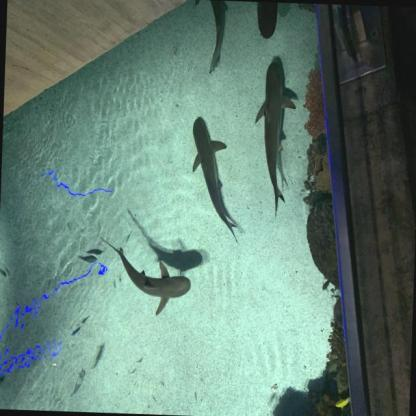fish: (70, 367, 86, 399), (86, 242, 104, 258), (332, 394, 350, 409), (320, 276, 332, 295)
shark: (98, 236, 196, 316), (251, 60, 298, 216), (189, 116, 240, 243), (191, 0, 232, 75), (250, 1, 281, 39)
